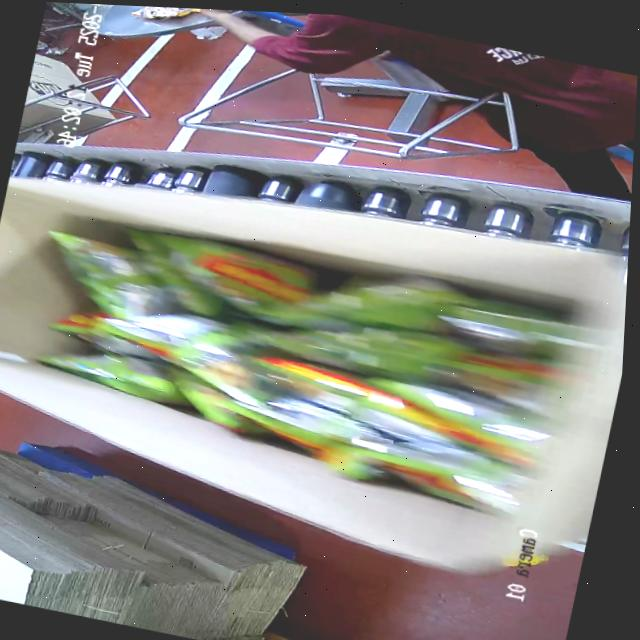YOGURT_HERB: (6, 204, 562, 514)
